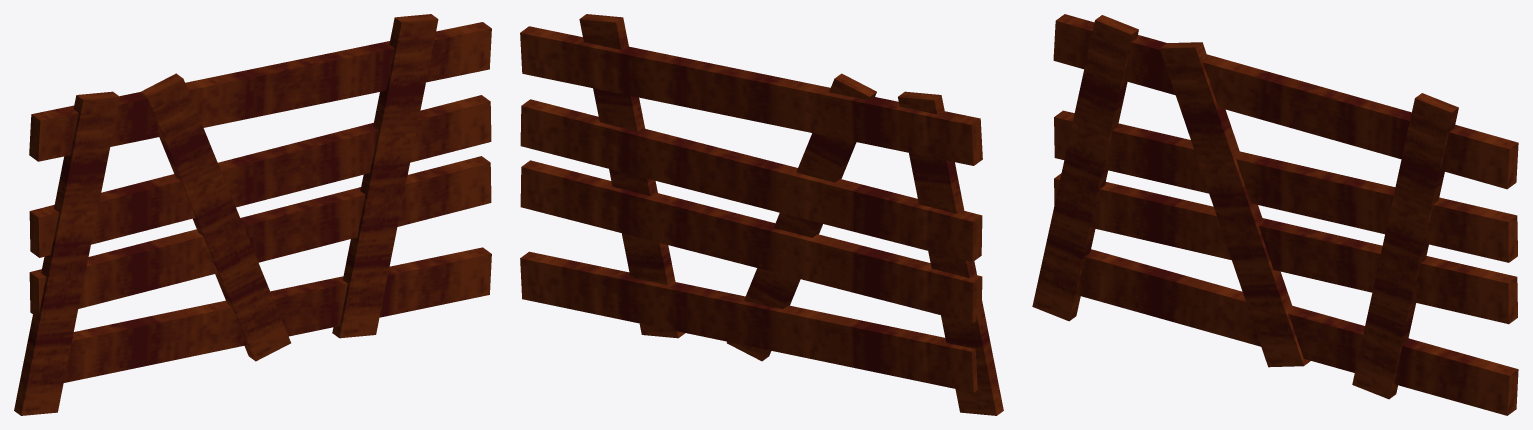
File: barricades.fbx
The picture shows the model from 3 angles, left to right: view 1: azimuth 30°, elevation 25°; view 2: azimuth 150°, elevation 25°; view 3: azimuth 330°, elevation 25°; orthographic projection.
Visible parts, largest first — view 1: Cube.004; view 2: Cube.004; view 3: Cube.004.
Boxes of the visible parts, x1,y1,x2,y2 form: Cube.004: (14,14,491,415); Cube.004: (520,14,1003,415); Cube.004: (1032,14,1518,415).
Bounding box in the file's own units: 301 × 186 × 12.17.
Materials: 1 (1 with a texture image).
